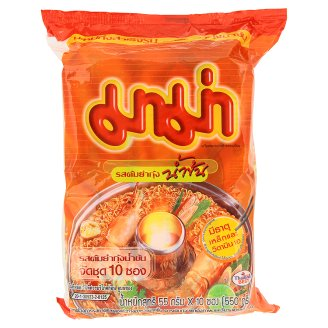Snack: (36, 7, 290, 320)
